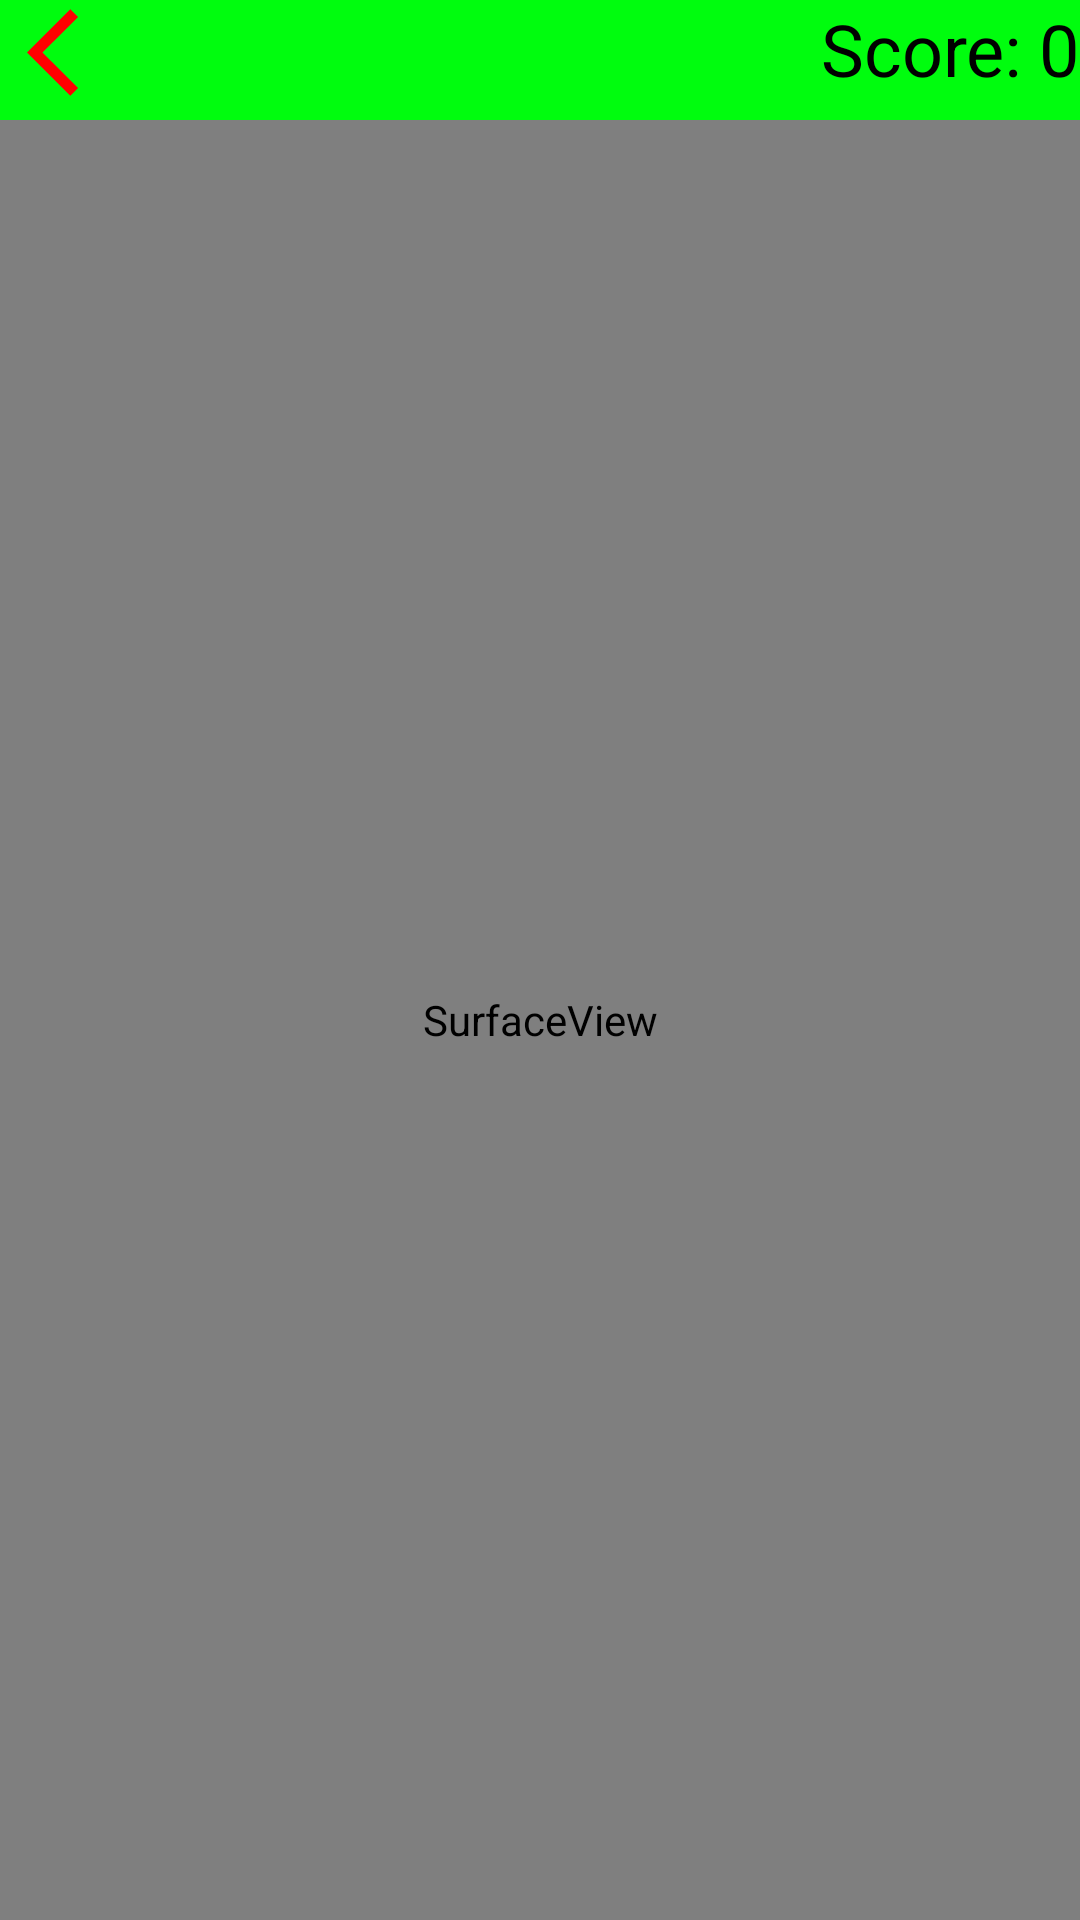

Where icons sit on this 1080*1920 app screen, as bbox=[x1, y1, x2, y2]:
nazad: bbox=[27, 9, 78, 96]
